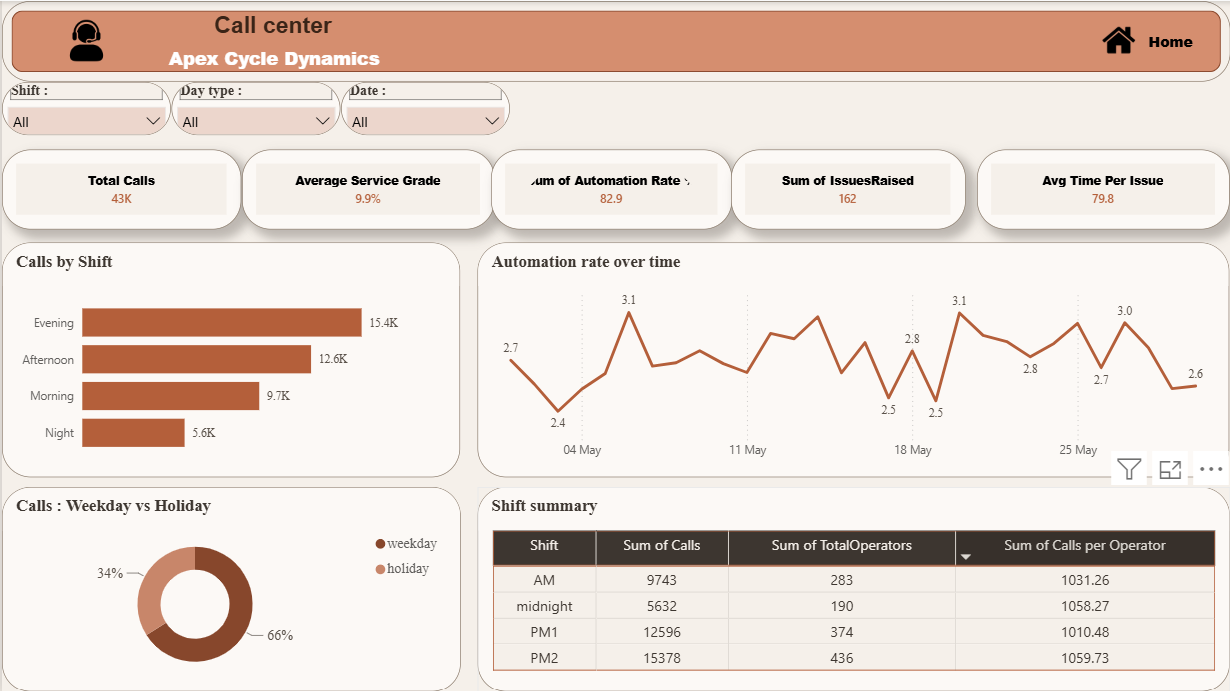

The dashboard page shown, as its layout file describes it:
{"tool":"powerbi","page":{"name":"Call center","canvas":[1280,720],"ordinal":7},"visuals":[{"type":"shape","box":[0,0,1280,84],"z":0},{"type":"textbox","box":[88,6,390,62],"z":1000},{"type":"textbox","title":"Apex Cycle Dynamics","box":[131.2,41.2,304.7,42.1],"z":2000},{"type":"image","box":[1126,22.9,76.8,34.5],"z":3000},{"type":"textbox","box":[1180.9,26,72.3,42.6],"z":4000},{"type":"image","box":[0,16.6,176.4,48.2],"z":5000},{"type":"slicer","fields":{"Values":["FactCallCenter.Shift"]},"box":[0,84.4,176.2,55],"z":6000},{"type":"slicer","fields":{"Values":["FactCallCenter.WageType"]},"box":[176.6,84.4,176.2,55],"z":7000},{"type":"slicer","fields":{"Values":["FactCallCenter.Date"]},"box":[353.2,84.4,176.2,55],"z":8000},{"type":"cardVisual","title":"Total sales","fields":{"Data":["FactCallCenter.Total Calls"]},"box":[0,154.7,249.6,83.2],"z":8001},{"type":"cardVisual","title":"Total sales","fields":{"Data":["FactCallCenter.Average Service Grade"]},"box":[249.6,154.7,263.3,83.3],"z":8002},{"type":"cardVisual","title":"Total sales","fields":{"Data":["Sum(FactCallCenter.Automation Rate %)"]},"box":[509.1,154.7,251.2,83.2],"z":8003},{"type":"cardVisual","title":"Total sales","fields":{"Data":["Sum(FactCallCenter.IssuesRaised)"]},"box":[760.4,154.7,244.6,83.2],"z":8004},{"type":"cardVisual","title":"Total sales","fields":{"Data":["FactCallCenter.Avg Time Per Issue"]},"box":[1016.6,154.7,263.3,83.3],"z":8005},{"type":"clusteredBarChart","title":"Calls by Shift","fields":{"Category":["FactCallCenter.Shift Full Name"],"Y":["FactCallCenter.Total Calls"]},"box":[0,251.2,477.5,244.6],"z":8006},{"type":"donutChart","title":"Calls : Weekday vs Holiday","fields":{"Category":["FactCallCenter.WageType"],"Y":["FactCallCenter.Total Calls"]},"box":[0,505.8,478,214],"z":8007},{"type":"lineChart","title":"Automation rate over time","fields":{"Category":["FactCallCenter.Date"],"Y":["Sum(FactCallCenter.Automation Rate %)"]},"box":[495.8,251.2,783.6,244.6],"z":8008},{"type":"tableEx","title":"Shift summary","fields":{"Values":["FactCallCenter.Shift","Sum(FactCallCenter.Calls)","Sum(FactCallCenter.TotalOperators)","Sum(FactCallCenter.Calls per Operator)"]},"box":[496,506,784,214],"z":8009}]}

Visuals, with their boxes in screenshot pixels (x1, y1, x2, y2), scaled from the page's 1280x720 canvas onto the 1230x691 screenshot:
shape: 0:0:1229:81
textbox: 85:6:459:65
"Apex Cycle Dynamics" textbox: 126:40:419:80
image: 1082:22:1156:55
textbox: 1135:25:1204:66
image: 0:16:170:62
slicer - FactCallCenter.Shift: 0:81:169:134
slicer - FactCallCenter.WageType: 170:81:339:134
slicer - FactCallCenter.Date: 339:81:509:134
"Total sales" cardVisual: 0:148:240:228
"Total sales" cardVisual: 240:148:493:228
"Total sales" cardVisual: 489:148:731:228
"Total sales" cardVisual: 731:148:966:228
"Total sales" cardVisual: 977:148:1229:228
"Calls by Shift" clusteredBarChart: 0:241:459:476
"Calls : Weekday vs Holiday" donutChart: 0:485:459:690
"Automation rate over time" lineChart: 476:241:1229:476
"Shift summary" tableEx: 477:486:1229:690
